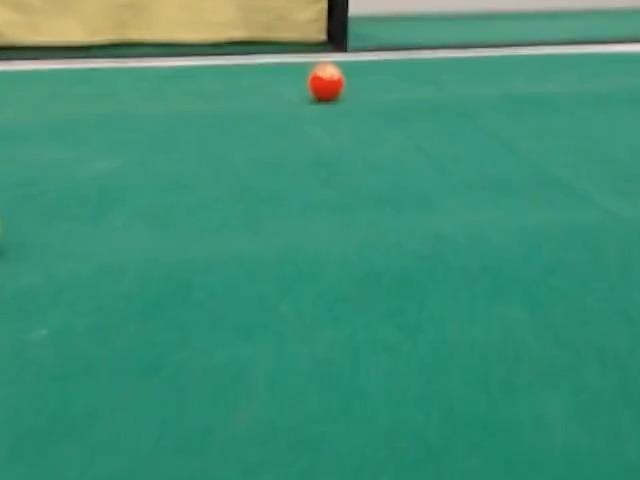Ball: (308, 62, 344, 102)
